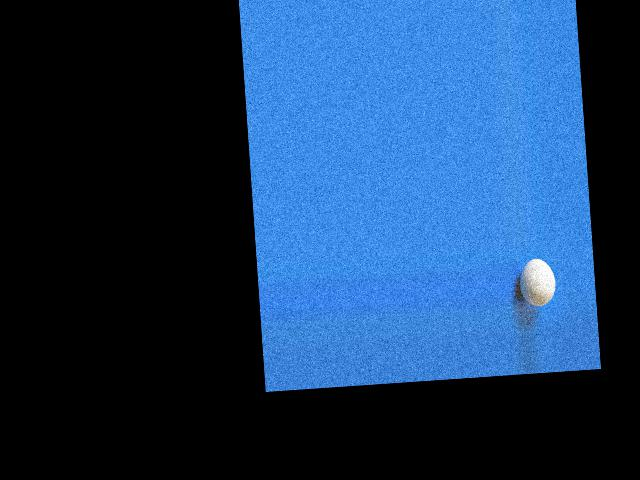egg: (517, 257, 556, 307)
